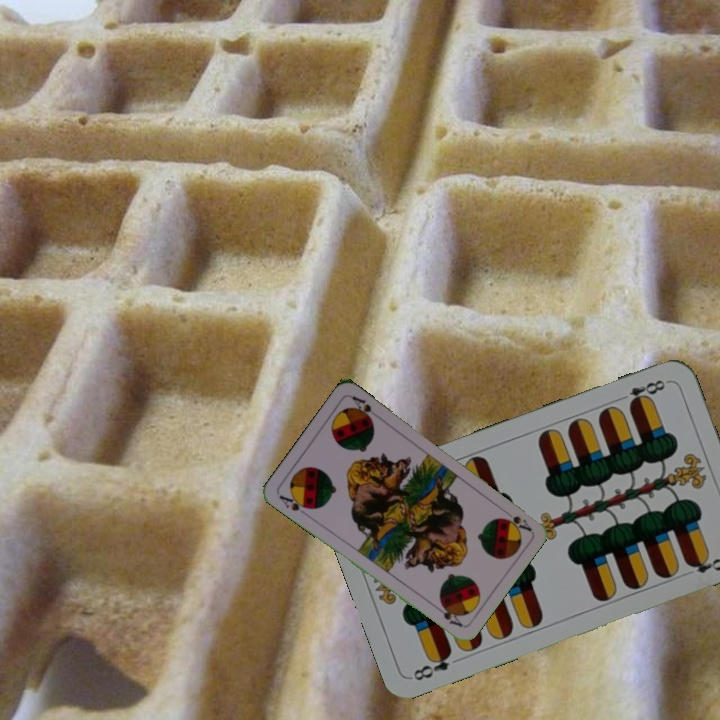E8: (614, 375, 671, 409), (409, 646, 455, 683)
SA: (275, 490, 314, 519), (502, 512, 534, 534)
